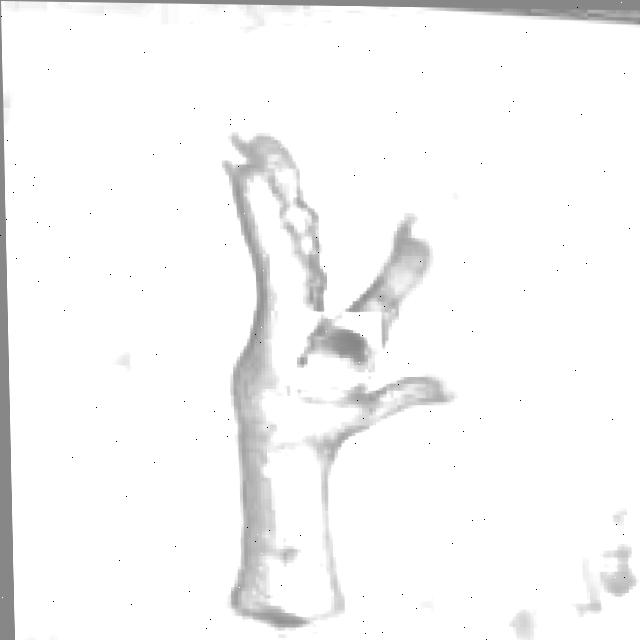Bumble foot: (302, 297, 379, 378)
